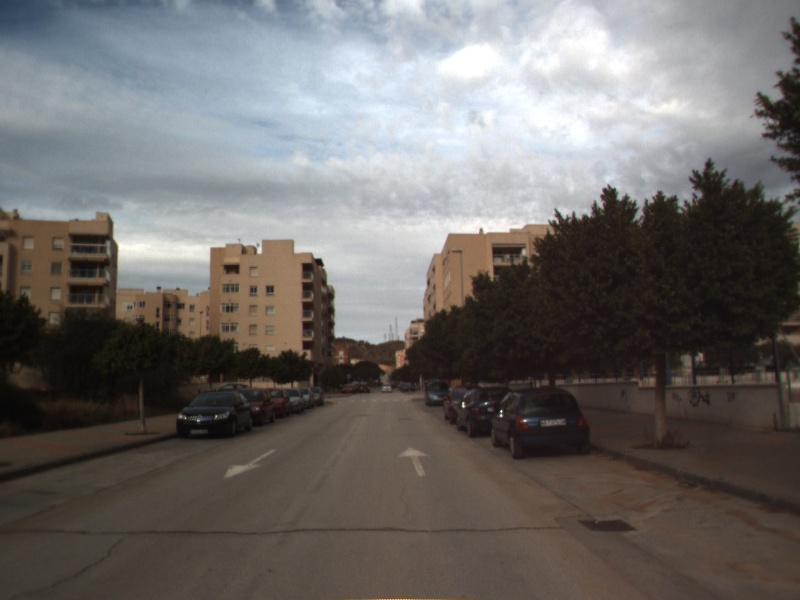STRAIGHT: (396, 445, 432, 479)
